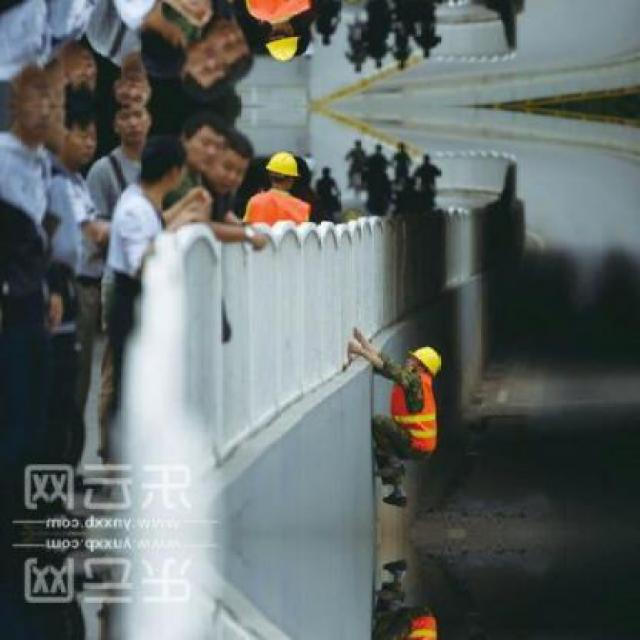Reflective-Jacket: (383, 373, 449, 469)
Safety-Helmet: (262, 147, 308, 185), (404, 342, 448, 381), (262, 30, 301, 64)
